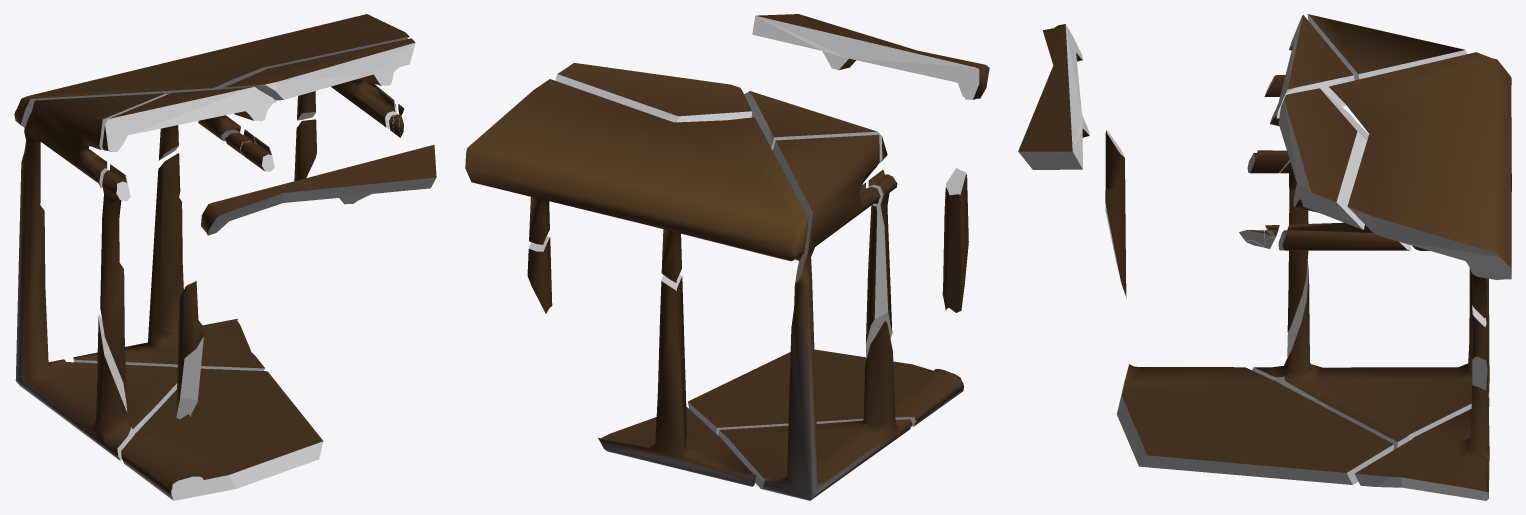
The model's file is Pergolas and open houses.glb.
The picture shows the model from 3 angles, left to right: view 1: azimuth 30°, elevation 25°; view 2: azimuth 150°, elevation 25°; view 3: azimuth 270°, elevation 25°; orthographic projection. The views are drawn at different scales.
Parts seen in each view (by area): view 1: Root.007, Root.001, Root.011, Root.003, Root.013, Root, Root.008, Root.009, Root.006, Root.012, Root.004; view 2: Root.011, Root.007, Root.001, Root.003, Root, Root.013, Root.008, Root.009, Root.006, Root.012; view 3: Root.011, Root.001, Root.007, Root.013, Root.003, Root, Root.008, Root.006, Root.009, Root.012, Root.004.
Boxes of the visible parts, x1,y1,x2,y2 form: Root.007: (15,93,177,460); Root.001: (121,368,323,500); Root.011: (14,14,409,160); Root.003: (73,153,264,370); Root.013: (198,38,415,141); Root: (201,144,436,235); Root.008: (102,86,276,151); Root.009: (100,164,130,390); Root.006: (176,281,203,419); Root.012: (294,119,316,181); Root.004: (240,136,274,171); Root.011: (465,79,808,282); Root.007: (718,135,912,500); Root.001: (688,349,963,435); Root.003: (598,274,756,486); Root: (752,14,989,99); Root.013: (555,63,751,122); Root.008: (744,91,887,163); Root.009: (866,170,897,358); Root.006: (942,167,968,312); Root.012: (527,236,552,313); Root.011: (1329,52,1511,318); Root.001: (1117,364,1393,484); Root.007: (1252,14,1489,449); Root.013: (1278,88,1410,250); Root.003: (1354,278,1489,500); Root: (1018,24,1089,169); Root.008: (1270,15,1354,125); Root.006: (1105,130,1126,298); Root.009: (1264,75,1308,332); Root.012: (1472,305,1487,390); Root.004: (1247,150,1289,173).
Bounding box in the file's own units: 3.45 × 3.02 × 3.58.
